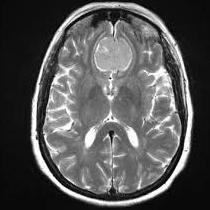Tumour-Meningioma: (92, 28, 146, 83)
